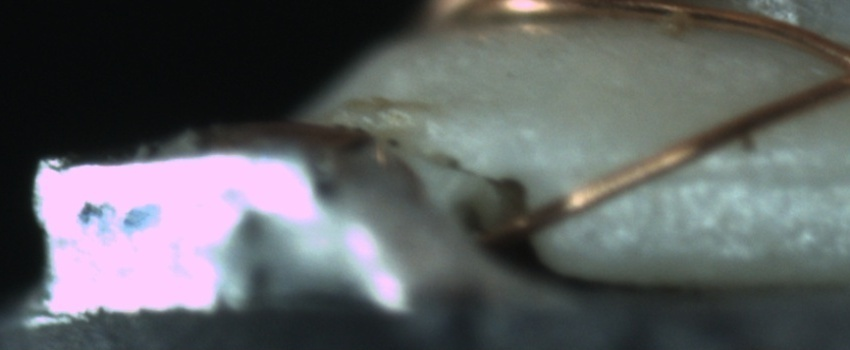DL: (627, 136, 848, 209)
